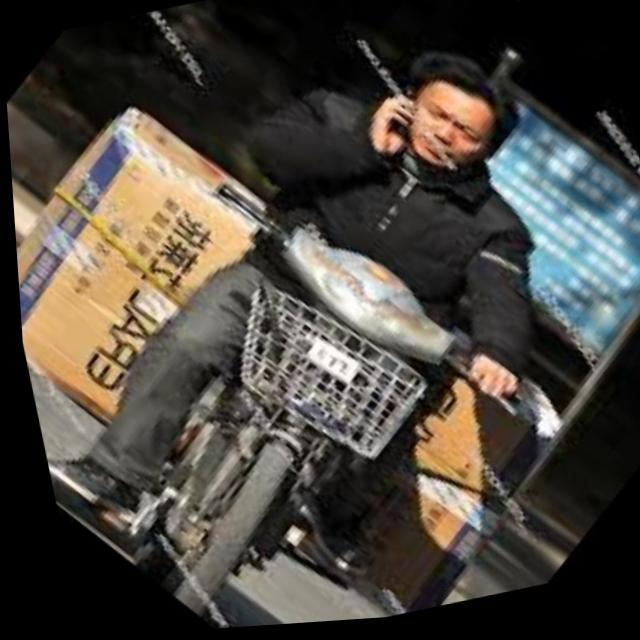USING_MOBILE: (217, 17, 454, 255)
